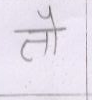ai_matra: (38, 4, 61, 28)
